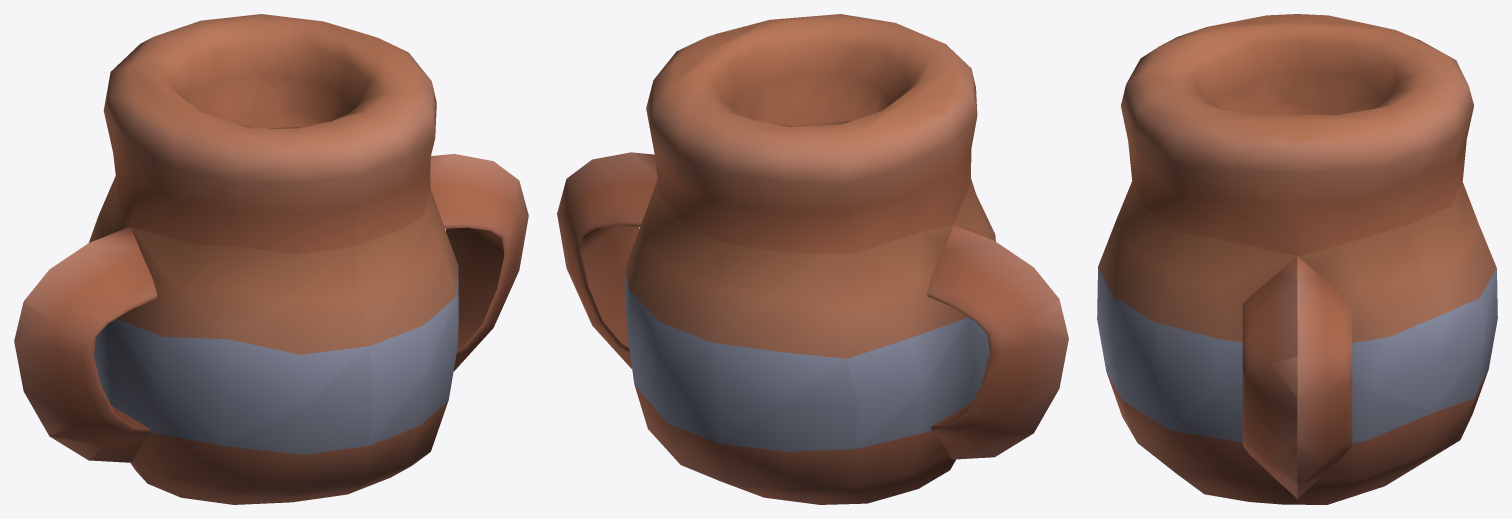
The model's file is prop_pot_clay.glb.
3 renders of one model, left to right at view 1: azimuth 30°, elevation 25°; view 2: azimuth 150°, elevation 25°; view 3: azimuth 270°, elevation 25°, orthographic.
Visible parts, largest first — view 1: refined; view 2: refined; view 3: refined.
Boxes of the visible parts, left/top/right/bottom form: refined: left=14, top=14, right=528, bottom=504; refined: left=557, top=14, right=1068, bottom=504; refined: left=1097, top=14, right=1497, bottom=504.
Size of the model in its own units: 0.5996 by 0.4305 by 0.4059.
